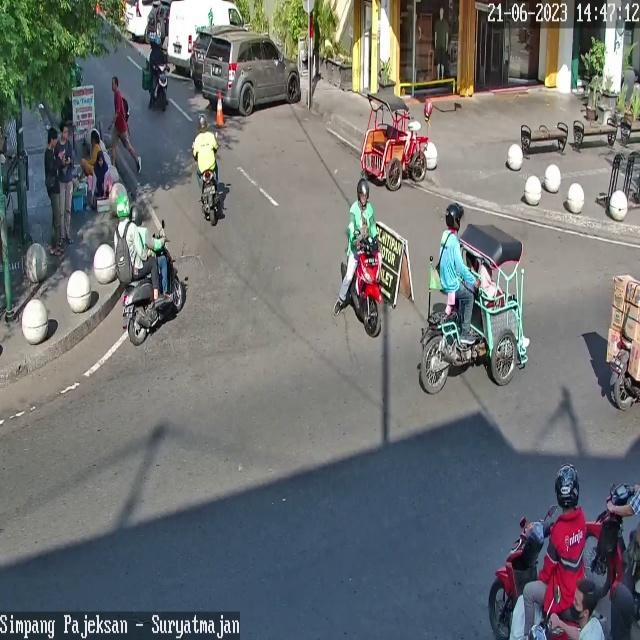bus: (486, 518, 549, 639), (122, 233, 185, 344), (583, 480, 640, 598), (356, 236, 385, 336), (608, 332, 640, 409), (200, 168, 221, 224), (150, 61, 172, 112), (527, 621, 549, 640)
motorcycle: (202, 31, 300, 116), (166, 0, 244, 67), (191, 28, 213, 82), (123, 0, 152, 36)
